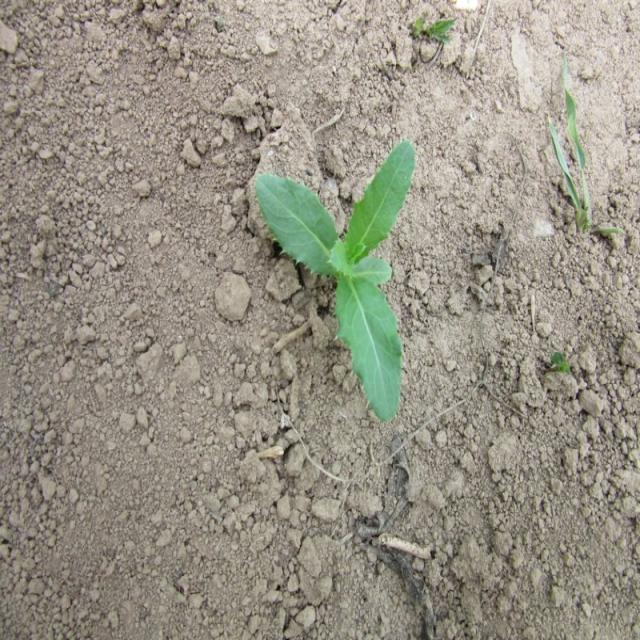cs: (248, 137, 419, 428)
